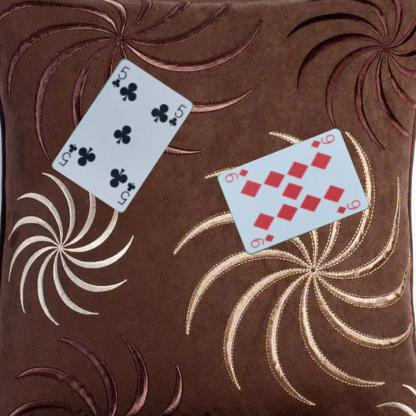5c: (114, 179, 137, 206), (109, 63, 131, 88)
9d: (247, 232, 276, 250), (308, 132, 336, 150)
